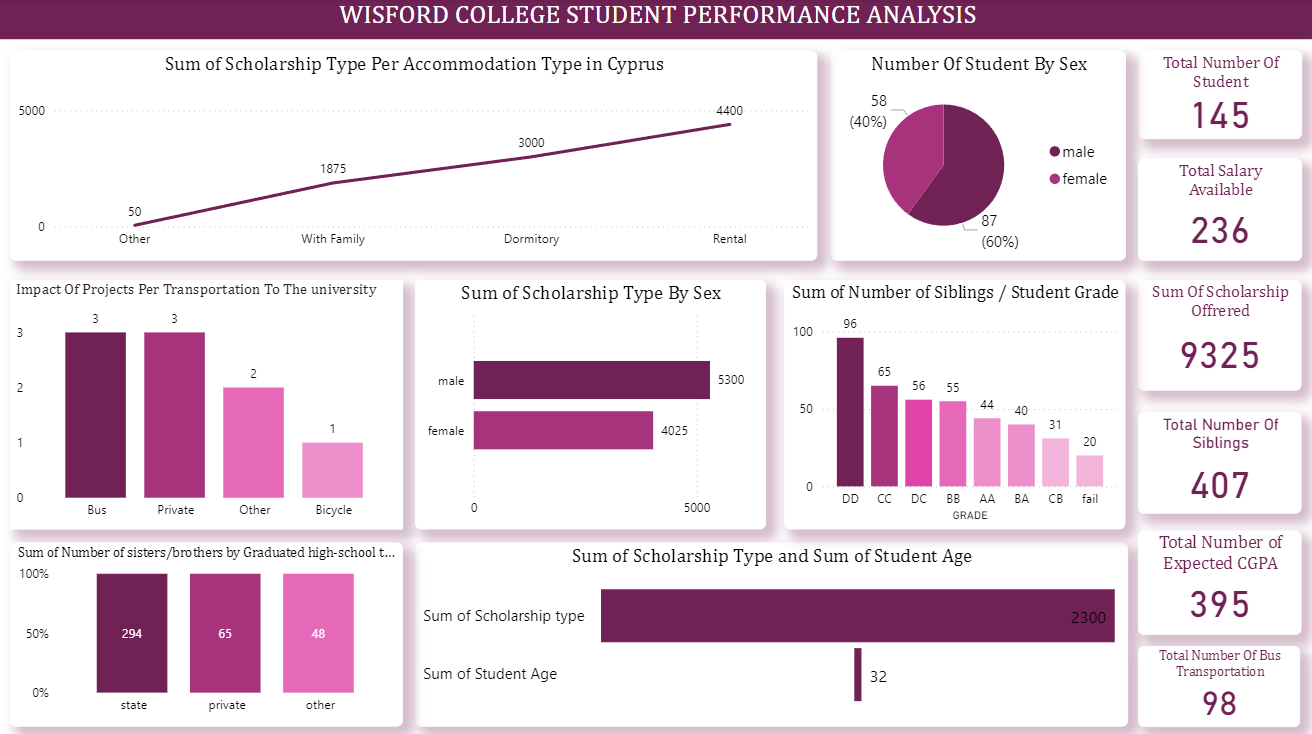

Layout of this report page (visuals, bound fields, positions):
{"tool":"powerbi","page":{"name":"Page 1","canvas":[1280,720],"ordinal":0},"visuals":[{"type":"textbox","title":"WISFORD COLLEGE STUDENT PERFORMANCE ANALYSIS","box":[0,0,1280.5,39.8],"z":0},{"type":"card","title":"Total Number Of Student","fields":{"Values":["Count(StudentsPerformance_with_headers.STUDENT ID)"]},"box":[1106.5,51.4,159,86.1],"z":1000},{"type":"pieChart","title":"Number Of Student By Sex","fields":{"Category":["StudentsPerformance_with_headers.Sex"],"Y":["CountNonNull(StudentsPerformance_with_headers.STUDENT ID)"]},"box":[808.4,51.4,286.6,203.7],"z":2000},{"type":"card","title":"Total Salary Available","fields":{"Values":["Sum(StudentsPerformance_with_headers.Total salary if available)"]},"box":[1106.5,155.7,159,99.4],"z":3000},{"type":"lineChart","title":"Sum of Scholarship Type Per Accommodation Type in Cyprus","fields":{"Category":["StudentsPerformance_with_headers.Accommodation type in Cyprus"],"Y":["Sum(StudentsPerformance_with_headers.Scholarship type)"]},"box":[11.6,51.4,783.5,203.7],"z":4000},{"type":"columnChart","title":"Impact Of Projects Per Transportation To The university","fields":{"Y":["Count(StudentsPerformance_with_headers.Impact of your projects/activities on your success)"],"Category":["StudentsPerformance_with_headers.Transportation to the university"]},"box":[12.1,274.1,381.6,242.3],"z":5000},{"type":"barChart","title":"Sum of Scholarship Type By Sex","fields":{"Category":["StudentsPerformance_with_headers.Sex"],"Y":["Sum(StudentsPerformance_with_headers.Scholarship type)"]},"box":[404.3,274.1,340.7,242.3],"z":6000},{"type":"card","title":"Sum Of Scholarship Offrered","fields":{"Values":["Sum(StudentsPerformance_with_headers.Scholarship type)"]},"box":[1106.9,274.1,159,107.5],"z":7000},{"type":"funnel","title":"Sum of Scholarship Type and Sum of Student Age","fields":{"Y":["Sum(StudentsPerformance_with_headers.Scholarship type)","Sum(StudentsPerformance_with_headers.Student Age)"]},"box":[404.3,528.5,692,178.7],"z":8000},{"type":"hundredPercentStackedColumnChart","fields":{"Category":["StudentsPerformance_with_headers.Graduated high-school type"],"Y":["Sum(StudentsPerformance_with_headers.Number of sisters/brothers)"]},"box":[12.1,528.5,381.6,178.7],"z":9000},{"type":"lineClusteredColumnComboChart","title":"Sum of Number of Siblings / Student Grade","fields":{"Category":["StudentsPerformance_with_headers.GRADE"],"Y":["Sum(StudentsPerformance_with_headers.Number of sisters/brothers)"]},"box":[763.2,274.1,331.6,242.3],"z":10000},{"type":"card","title":"Total Number Of Siblings","fields":{"Values":["Sum(StudentsPerformance_with_headers.Number of sisters/brothers)"]},"box":[1106.9,401.3,159,98.4],"z":11000},{"type":"card","title":"Total Number of Expected CGPA","fields":{"Values":["Sum(StudentsPerformance_with_headers.Expected Cumulative grade point average in the graduation (/4.00))"]},"box":[1106.9,516.3,159,101.5],"z":12000},{"type":"card","title":"Total Number Of Bus Transportation ","fields":{"Values":["Count(StudentsPerformance_with_headers)"]},"box":[1106.9,628.4,157.5,78.7],"z":13000}]}

Visuals, with their boxes in screenshot pixels (x1, y1, x2, y2), scaled from the page's 1280x720 canvas onto the 1312x734 screenshot:
"WISFORD COLLEGE STUDENT PERFORMANCE ANALYSIS" textbox: box(0, 0, 1311, 41)
"Total Number Of Student" card: box(1134, 52, 1297, 140)
"Number Of Student By Sex" pieChart: box(829, 52, 1122, 260)
"Total Salary Available" card: box(1134, 159, 1297, 260)
"Sum of Scholarship Type Per Accommodation Type in Cyprus" lineChart: box(12, 52, 815, 260)
"Impact Of Projects Per Transportation To The university" columnChart: box(12, 279, 404, 526)
"Sum of Scholarship Type By Sex" barChart: box(414, 279, 764, 526)
"Sum Of Scholarship Offrered" card: box(1135, 279, 1298, 389)
"Sum of Scholarship Type and Sum of Student Age" funnel: box(414, 539, 1124, 721)
hundredPercentStackedColumnChart - StudentsPerformance_with_headers.Graduated high-school type x Sum(StudentsPerformance_with_headers.Number of sisters/brothers): box(12, 539, 404, 721)
"Sum of Number of Siblings / Student Grade" lineClusteredColumnComboChart: box(782, 279, 1122, 526)
"Total Number Of Siblings" card: box(1135, 409, 1298, 509)
"Total Number of Expected CGPA" card: box(1135, 526, 1298, 630)
"Total Number Of Bus Transportation " card: box(1135, 641, 1296, 721)
